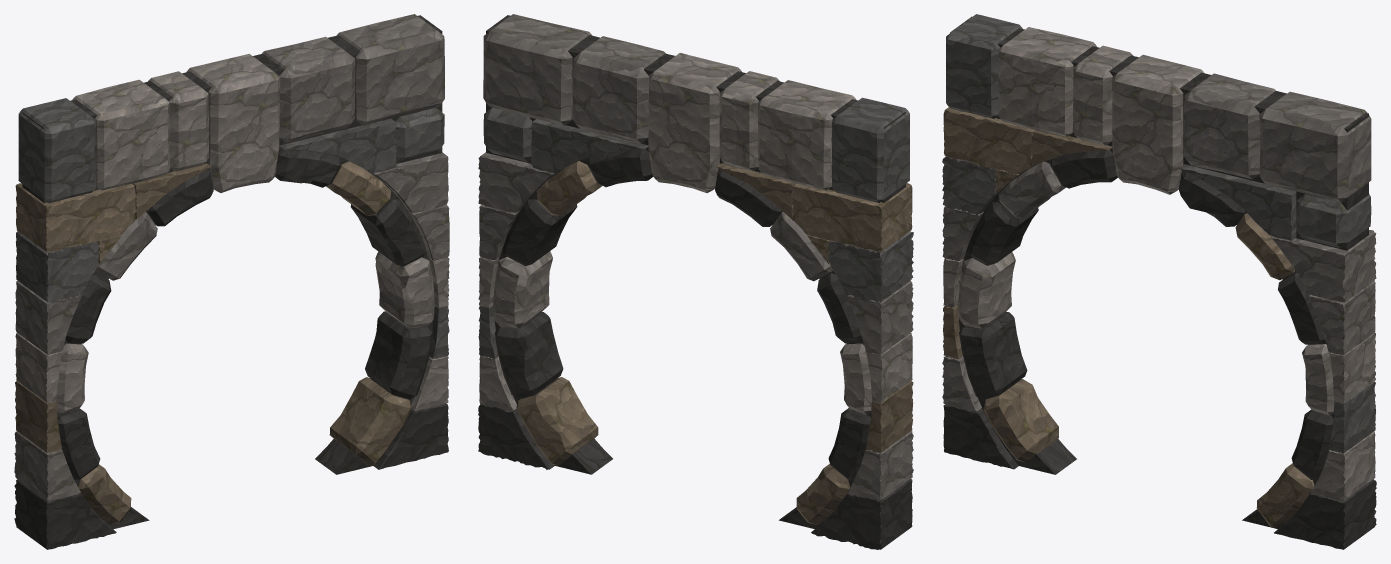
File: doorway__cut_stone.glb
3 views of the same model, side by side, from view 1: azimuth 30°, elevation 25°; view 2: azimuth 150°, elevation 25°; view 3: azimuth 330°, elevation 25° (orthographic).
Parts seen in each view (by area): view 1: model; view 2: model; view 3: model.
Part boxes in pixels (x1=…): model: x1=14, y1=14, x2=449, y2=549; model: x1=478, y1=14, x2=913, y2=549; model: x1=942, y1=14, x2=1376, y2=549.
Bounding box in the file's own units: 1.99 × 1.99 × 0.3277.
6 materials, 6 textured.
